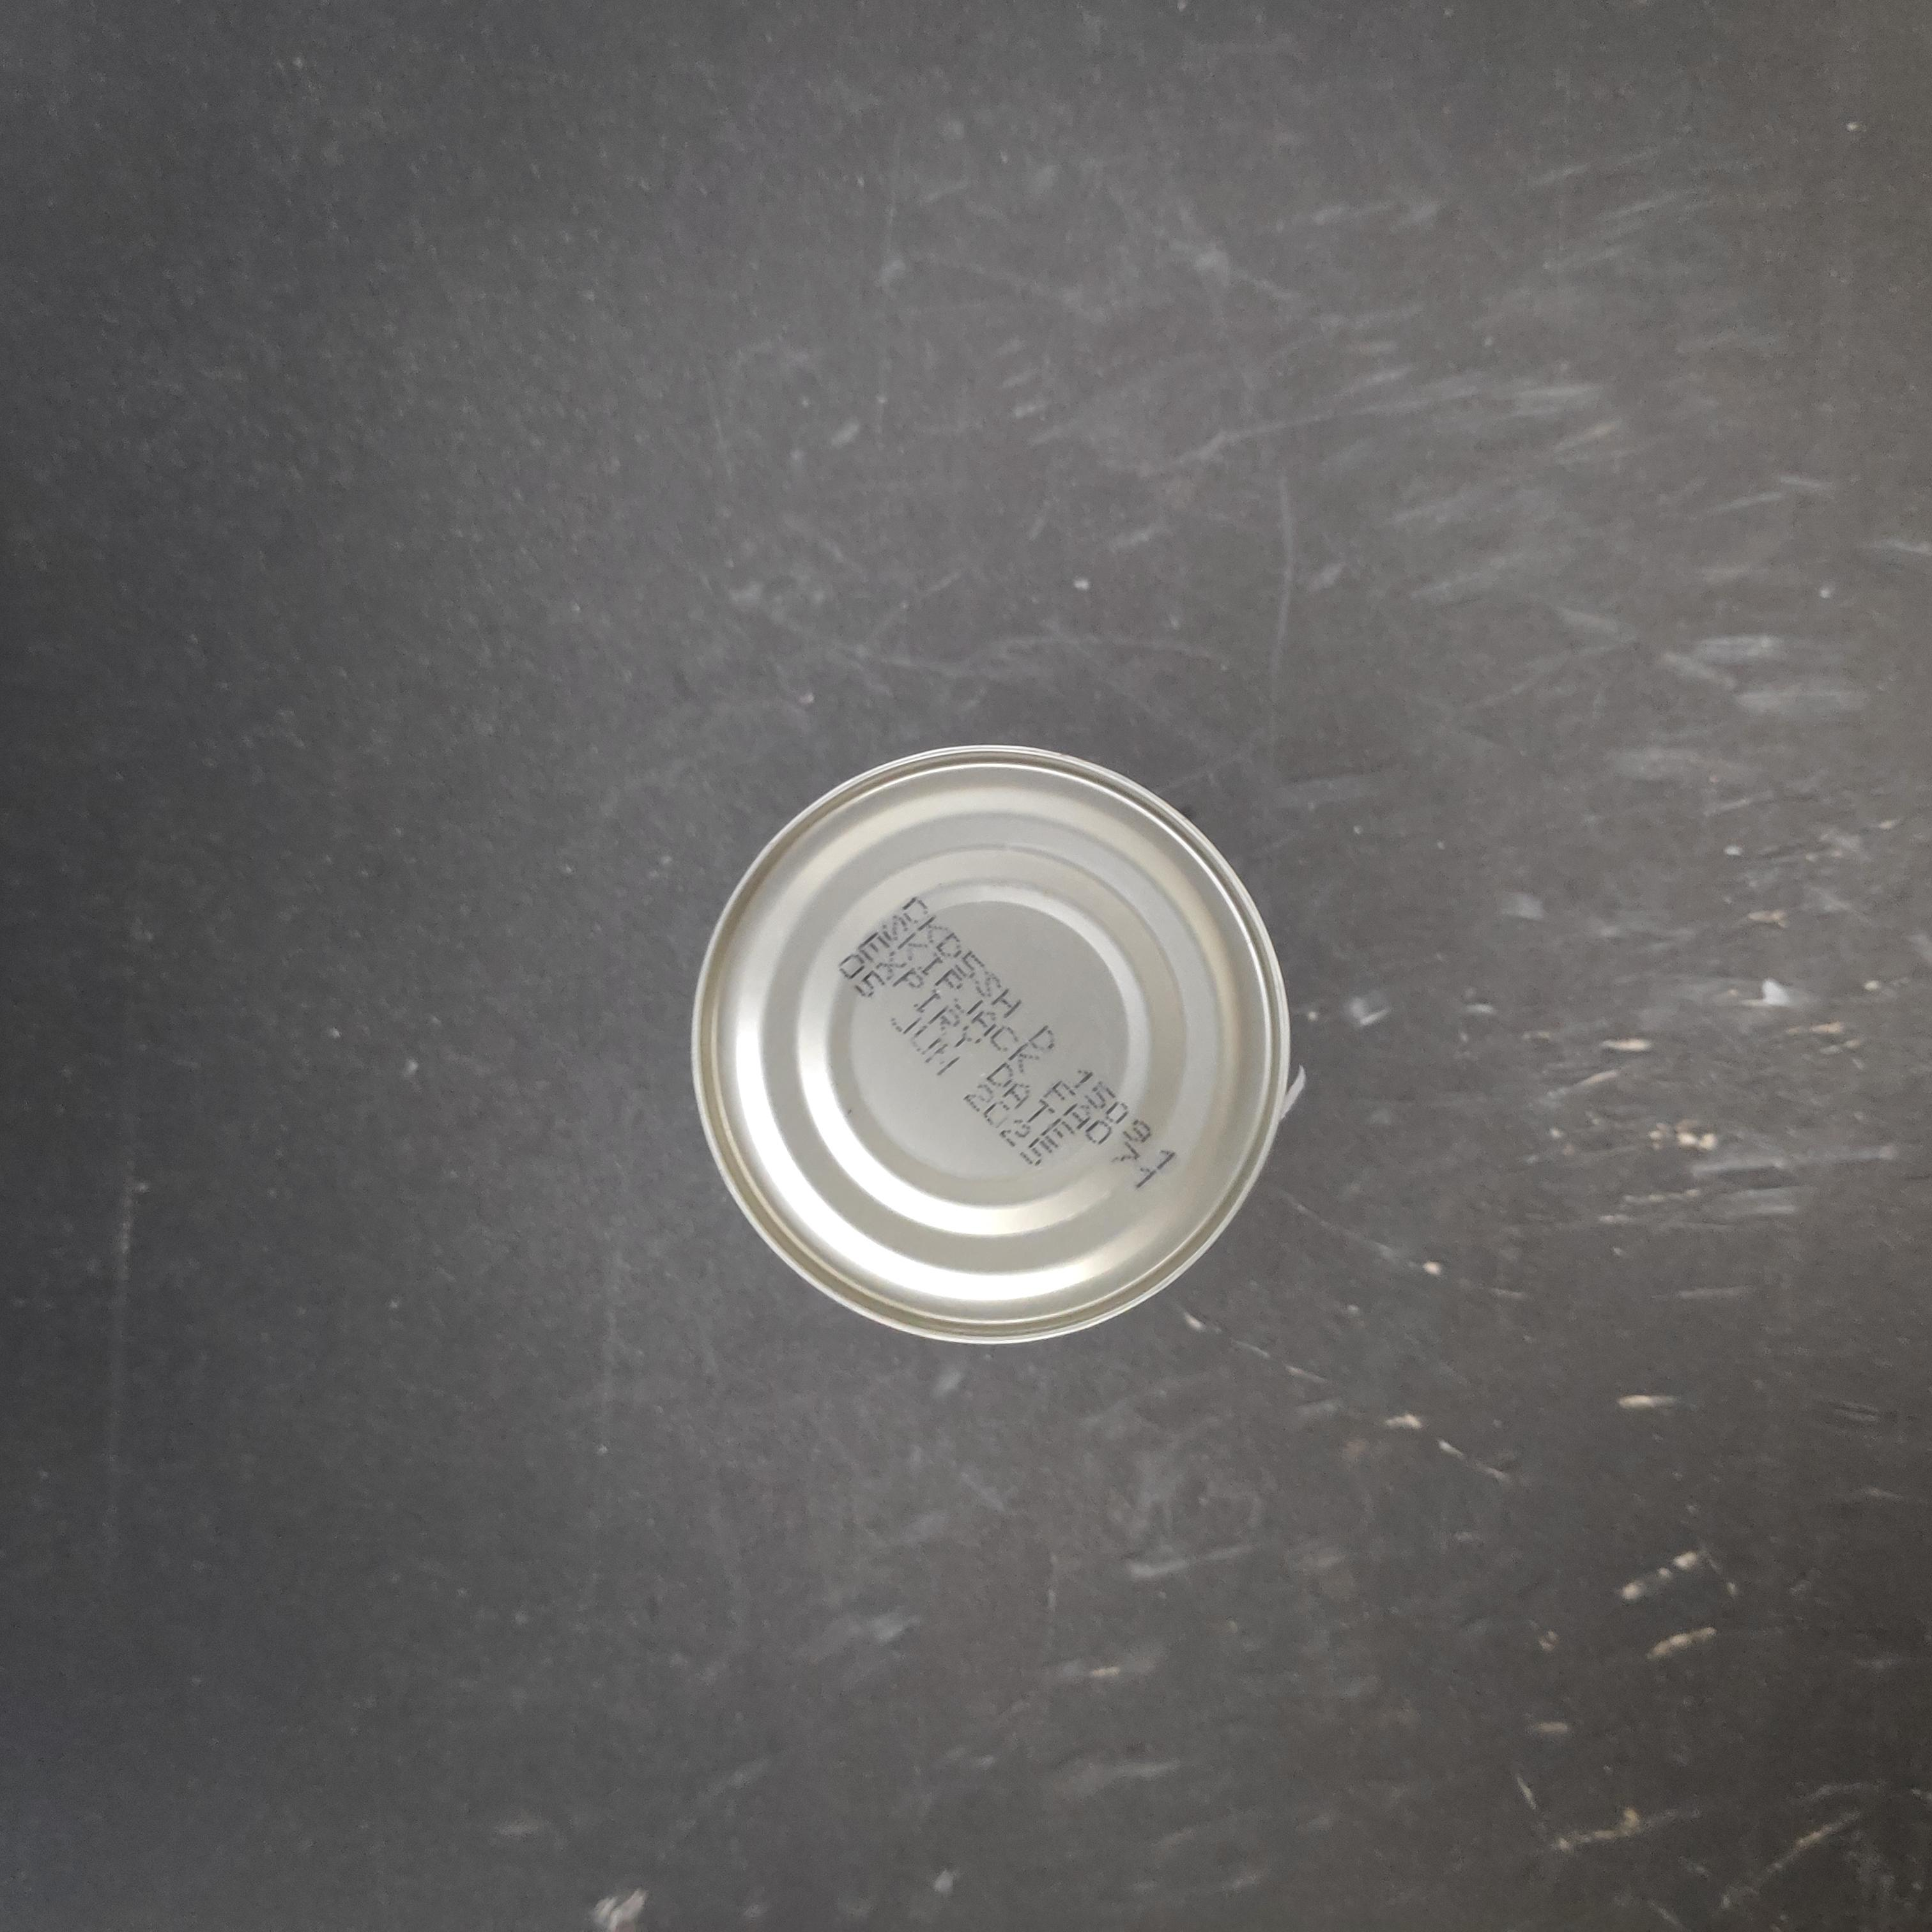No defect: (639, 584, 1246, 1191)
